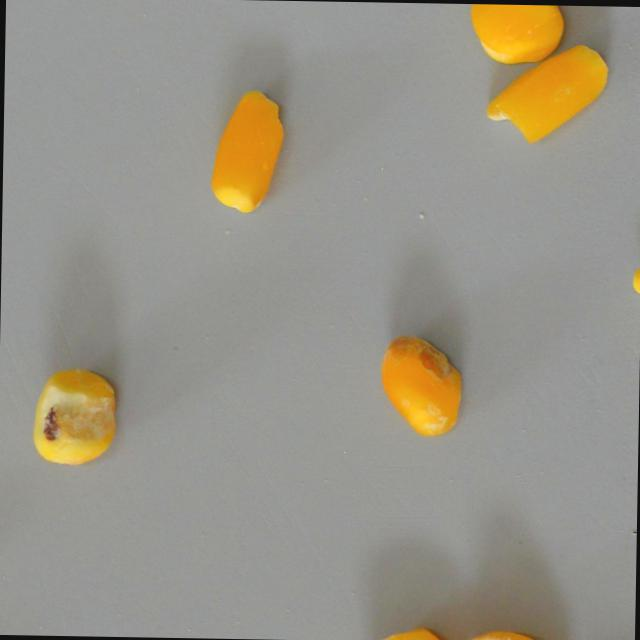dañado: (377, 333, 464, 437), (31, 365, 120, 463), (460, 625, 569, 640)
estandar: (482, 41, 610, 144), (210, 86, 286, 212)
no_canjicado: (469, 3, 564, 63)
pelicula: (350, 623, 469, 640)
